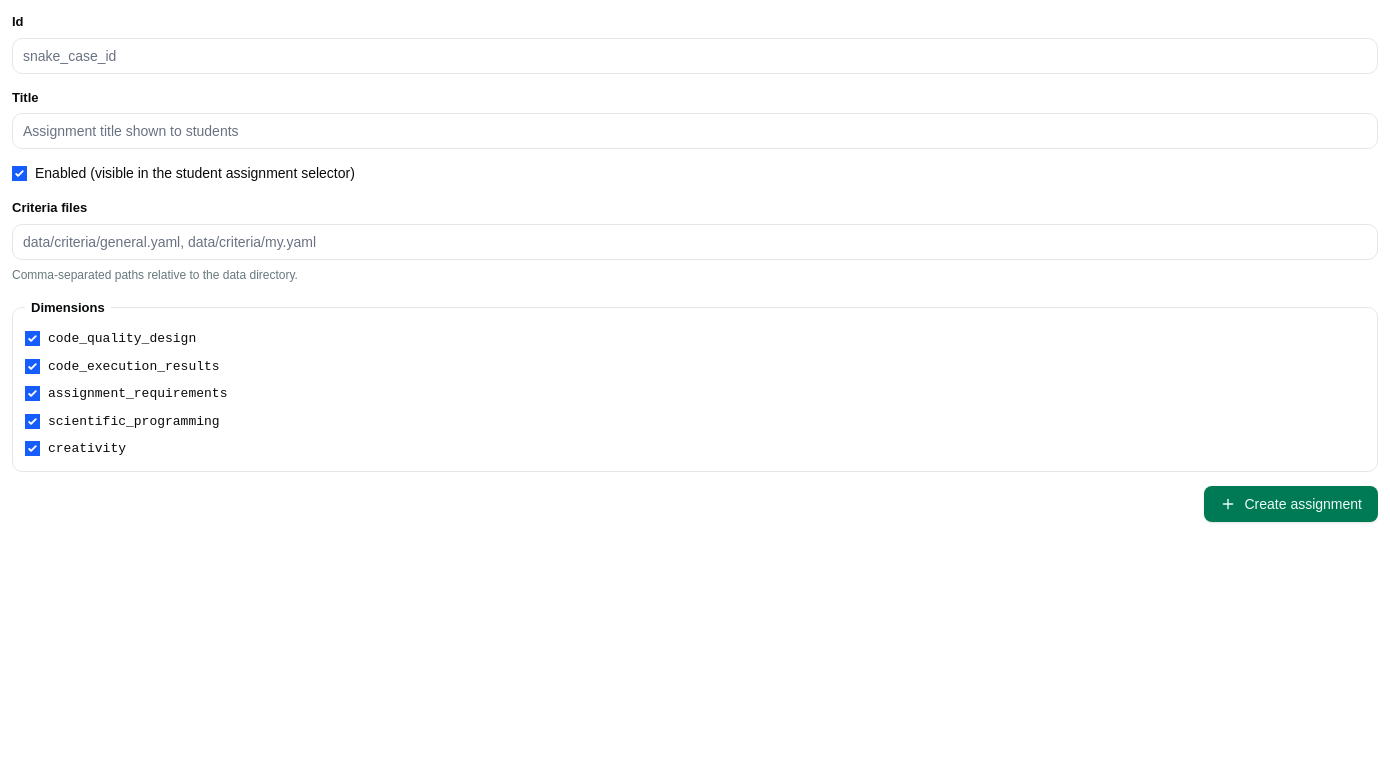
Test case: AssignmentForm › blocks submit client-side when no dimension is checked
Type "No dimensions" into the field labelled "Title" at (695, 131), box 12,113 -> 1378,149
Click the checkbox labelled "code_quality_design" at (32, 339), box 25,331 -> 40,346
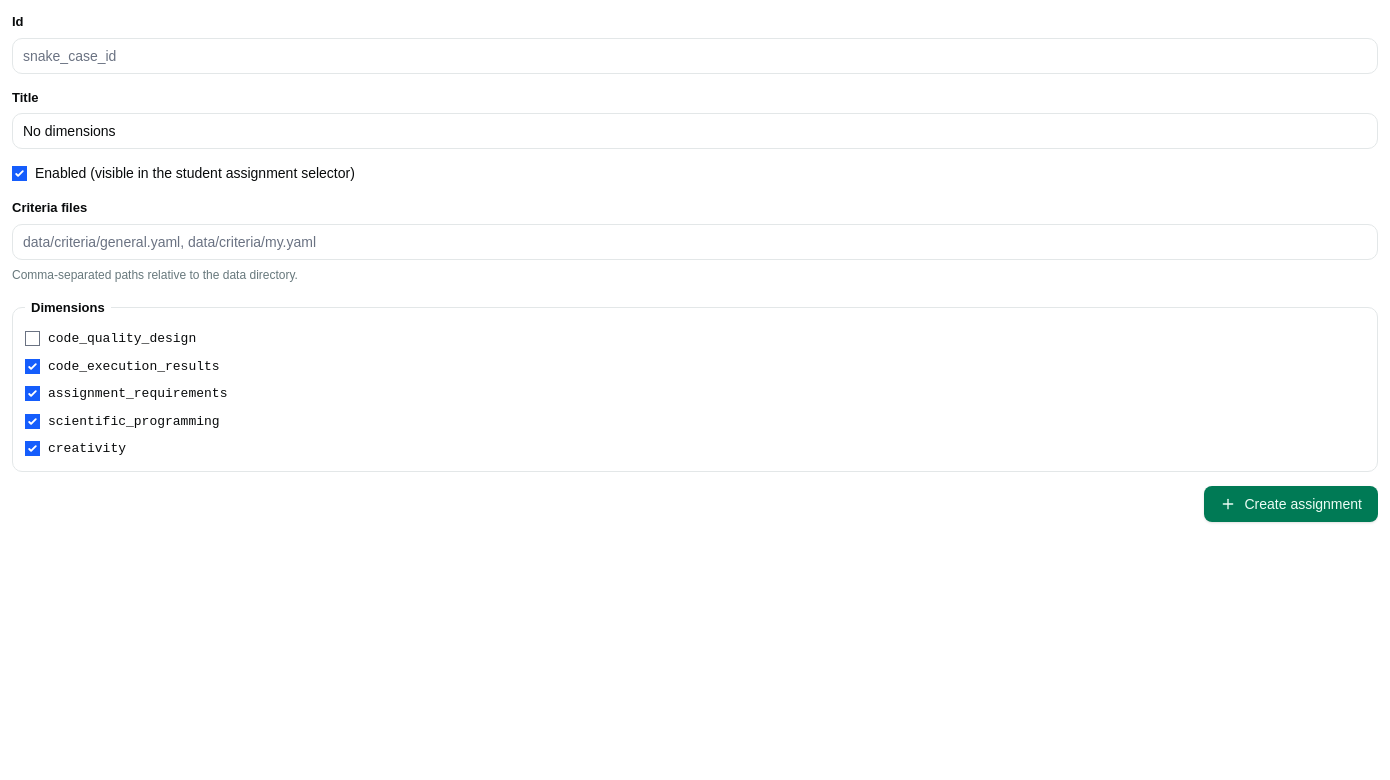
Click the checkbox labelled "code_execution_results" at (32, 366), box 25,359 -> 40,374
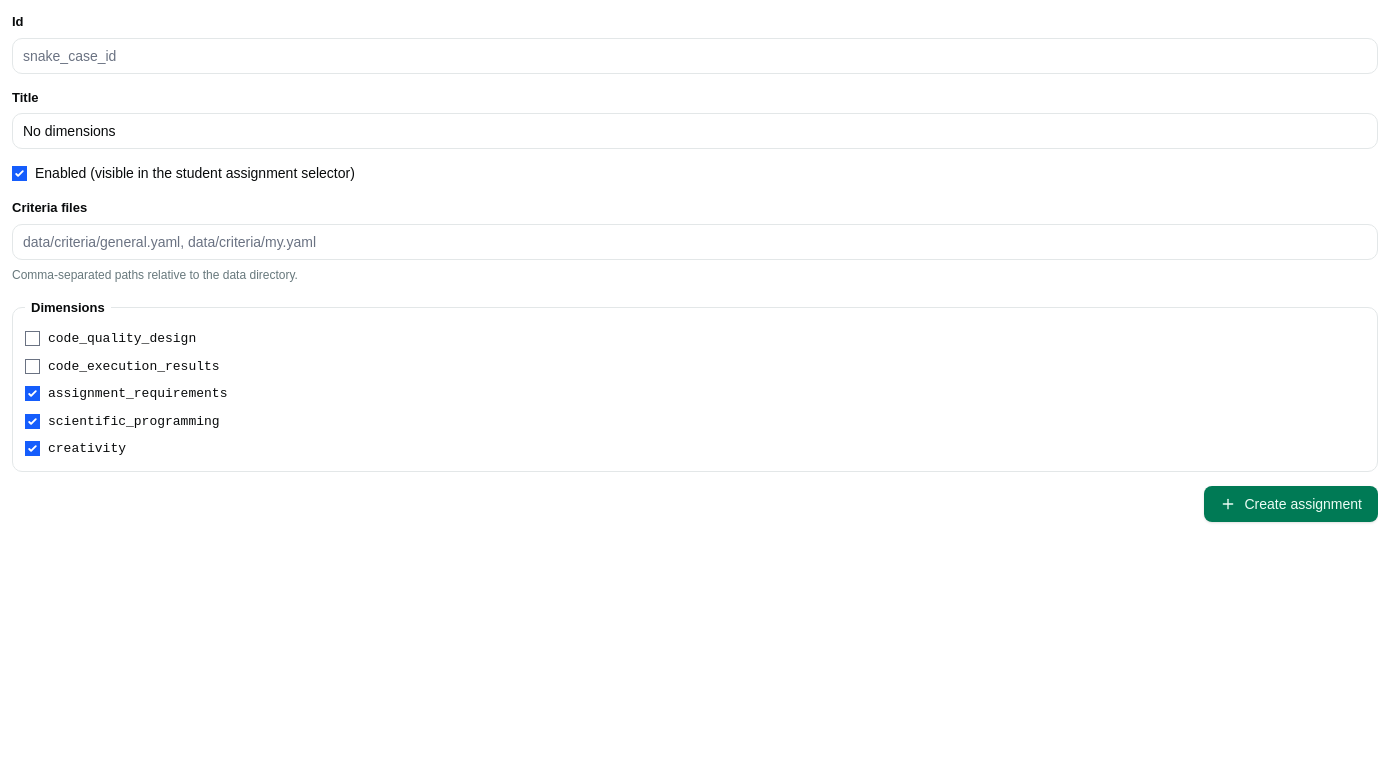
Click the checkbox labelled "assignment_requirements" at (32, 394), box 25,386 -> 40,401
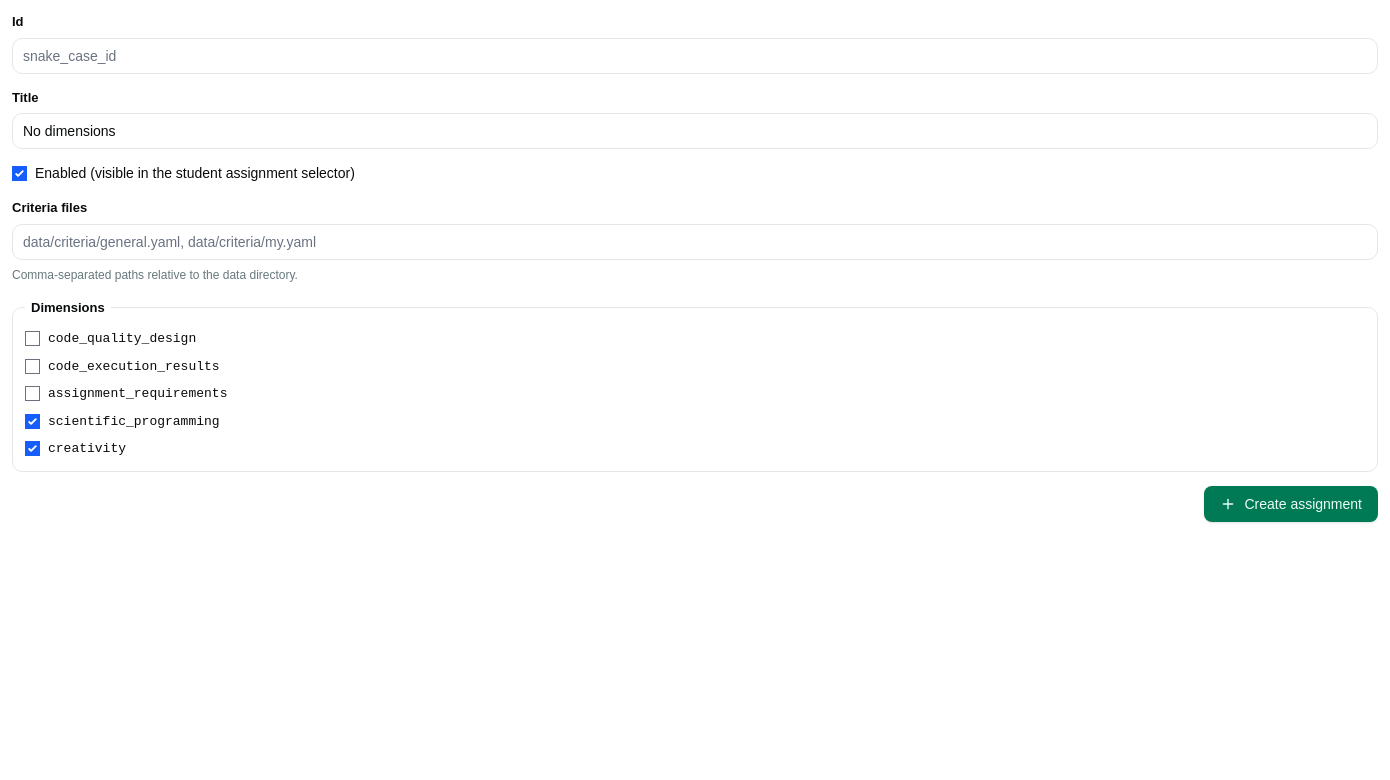
Click the checkbox labelled "scientific_programming" at (32, 421), box 25,414 -> 40,429
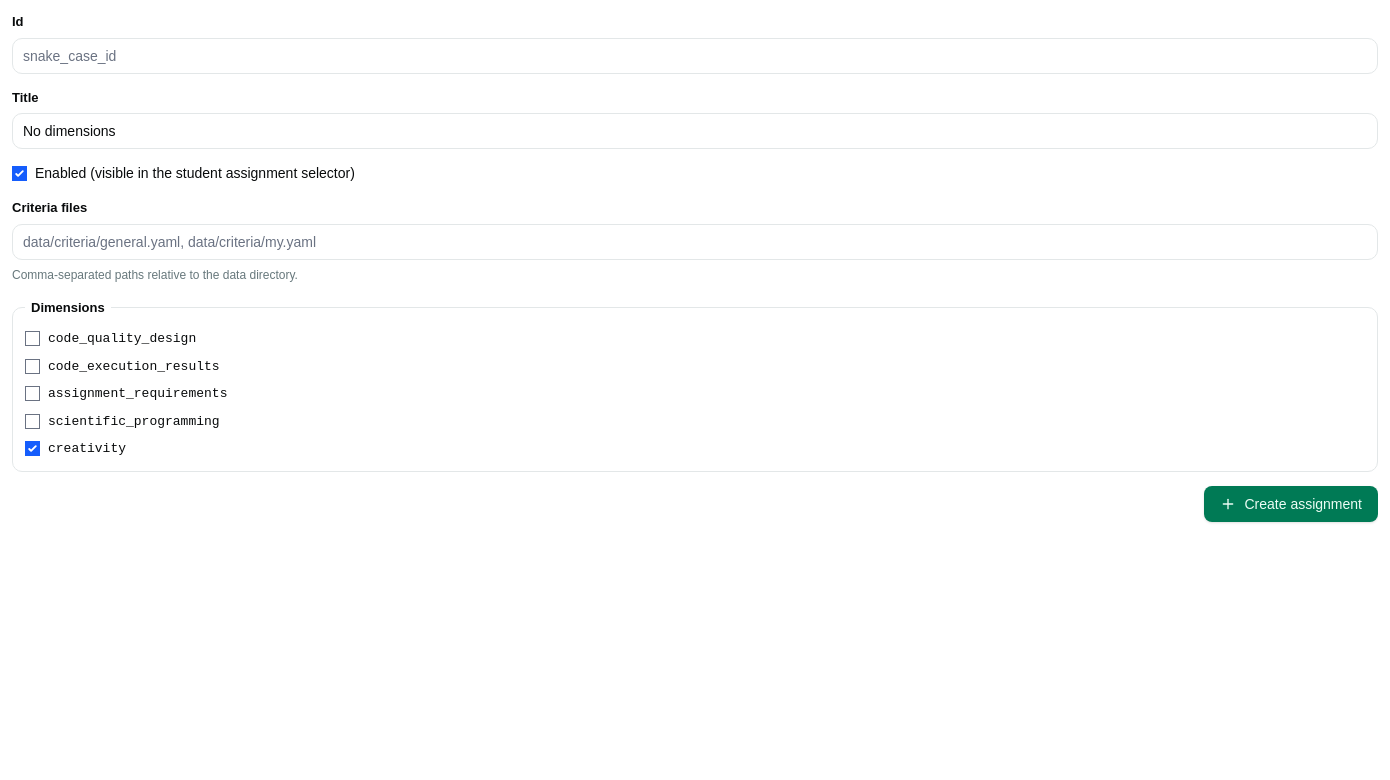
Click the checkbox labelled "creativity" at (32, 449), box 25,441 -> 40,456
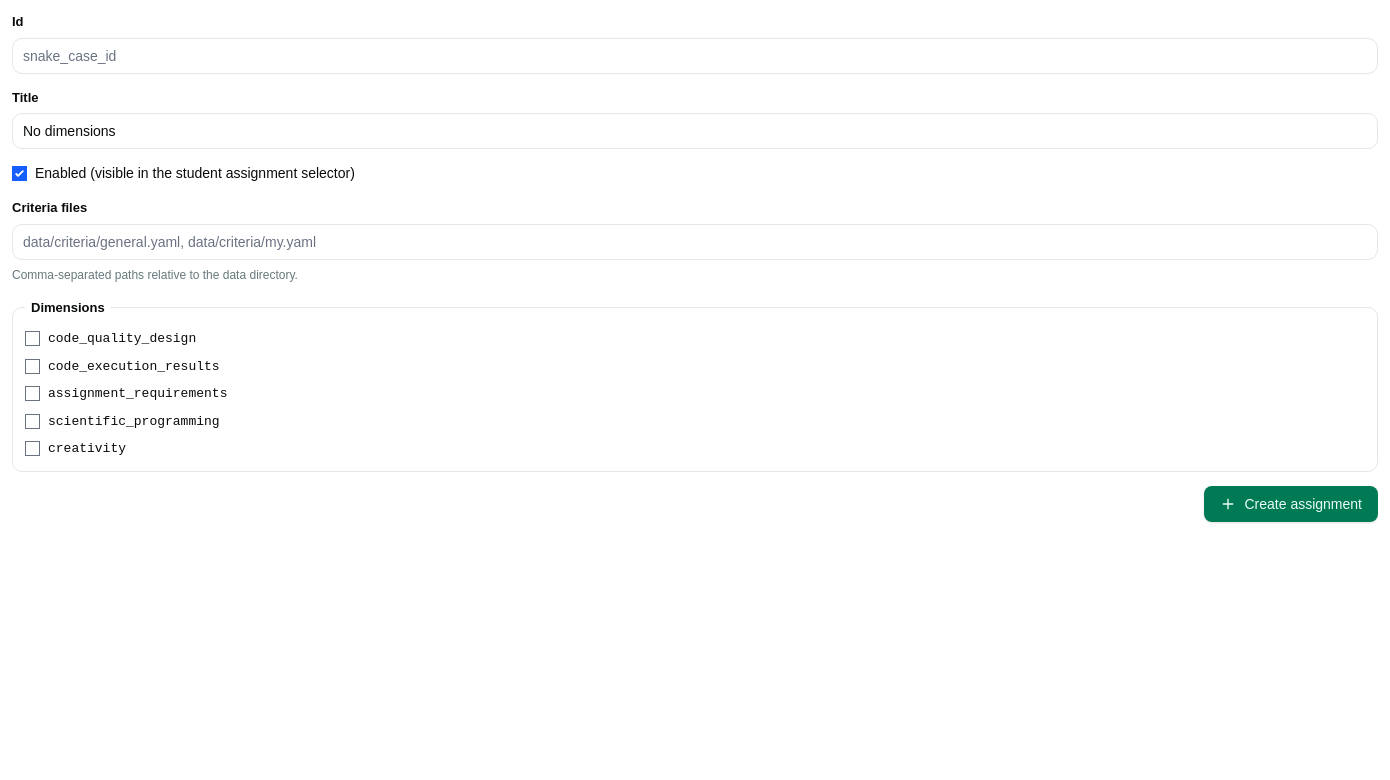
Click the button "Create assignment" at (1291, 504), box 1204,486 -> 1378,522
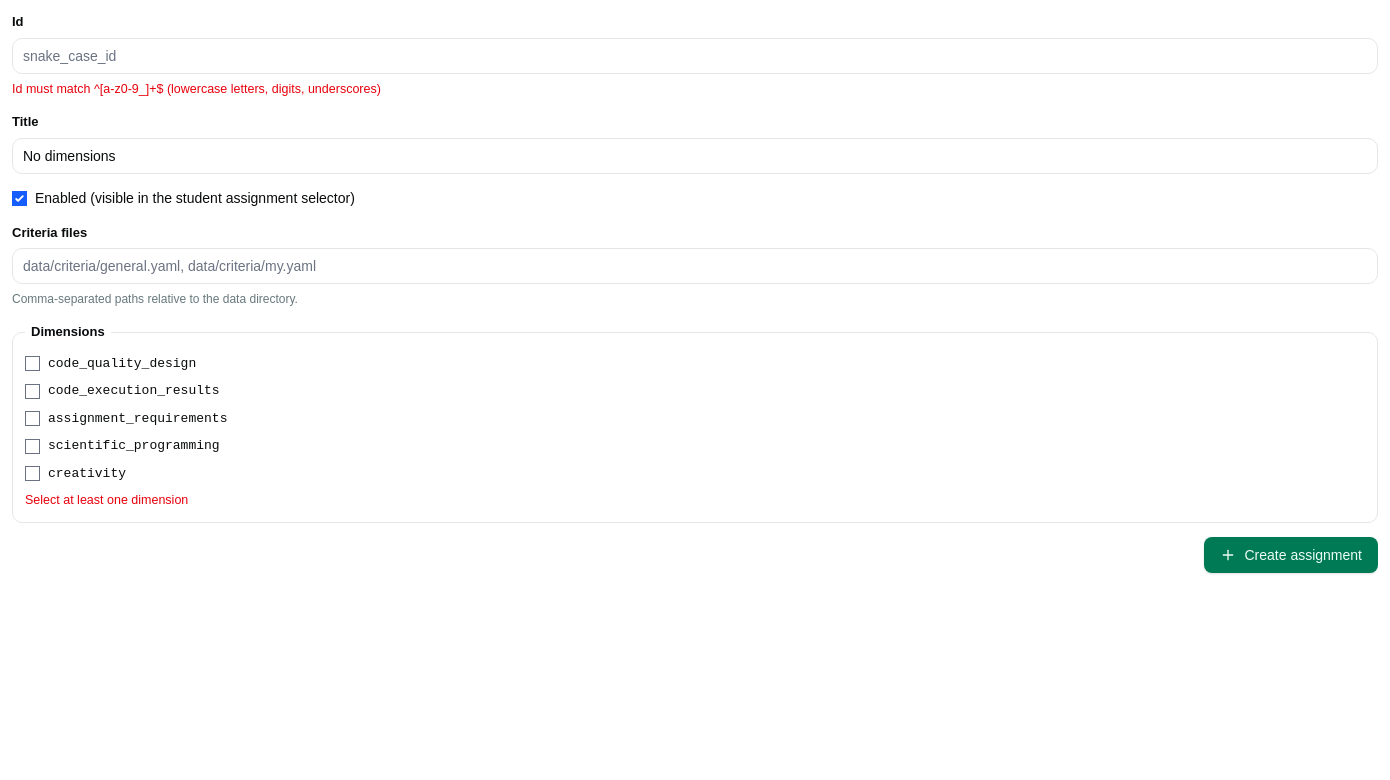
Now the text "Select at least one dimension" is shown, box 25,493 -> 188,507
